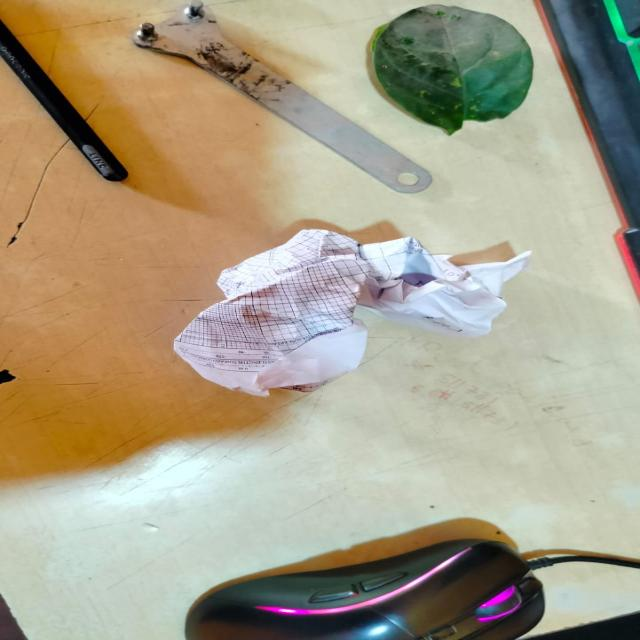Leaves: (365, 6, 534, 137)
Metal: (130, 7, 434, 198)
Paper: (173, 226, 531, 400)
Pen: (1, 12, 127, 184)
